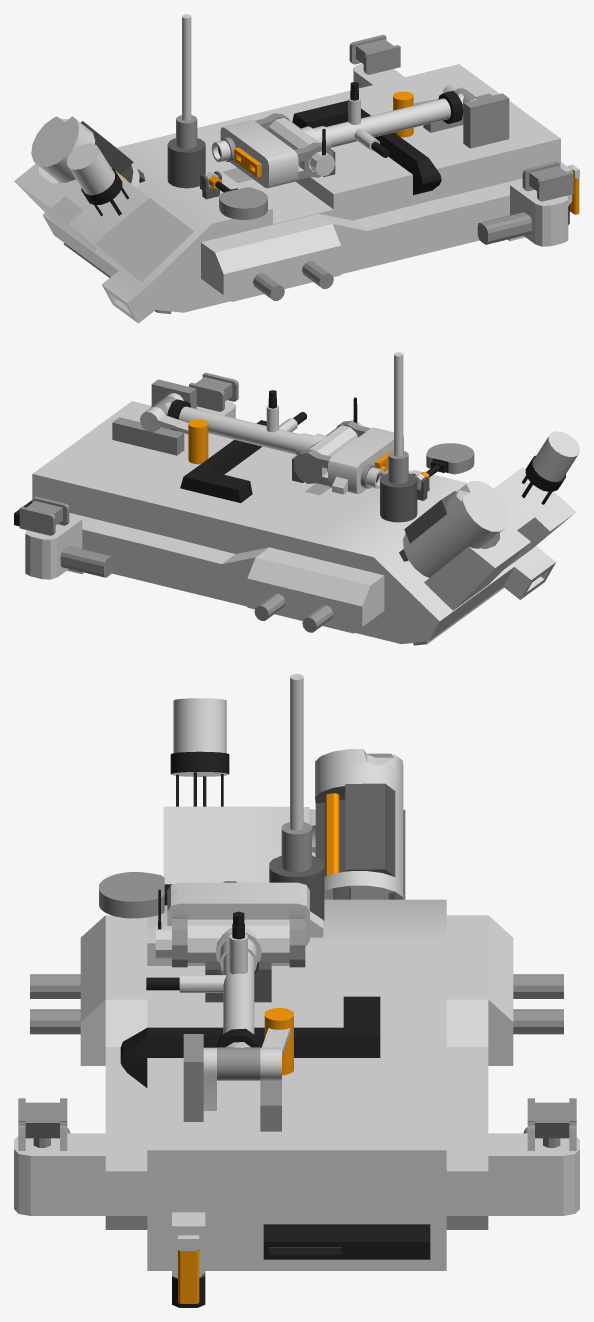
Rendered from baseRover.fbx.
3 renders of one model, top to bottom at view 1: azimuth 30°, elevation 25°; view 2: azimuth 150°, elevation 25°; view 3: azimuth 270°, elevation 25°, orthographic. The views are drawn at different scales.
Parts seen in each view (by area): view 1: baseRover; view 2: baseRover; view 3: baseRover.
Boxes of the visible parts, bbox=[...] form: baseRover: bbox=[14, 14, 579, 323]; baseRover: bbox=[14, 352, 579, 645]; baseRover: bbox=[14, 674, 579, 1307].
Size of the model in its own units: 1027 by 510 by 680.
